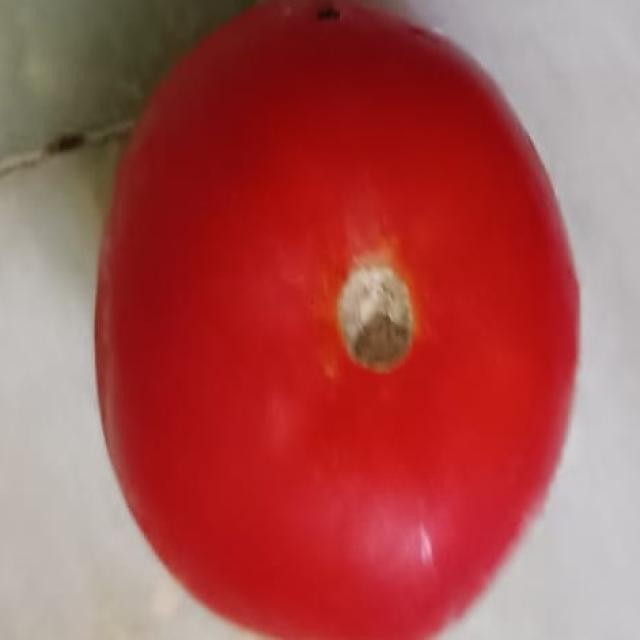ripe tomato: (97, 0, 609, 633)
